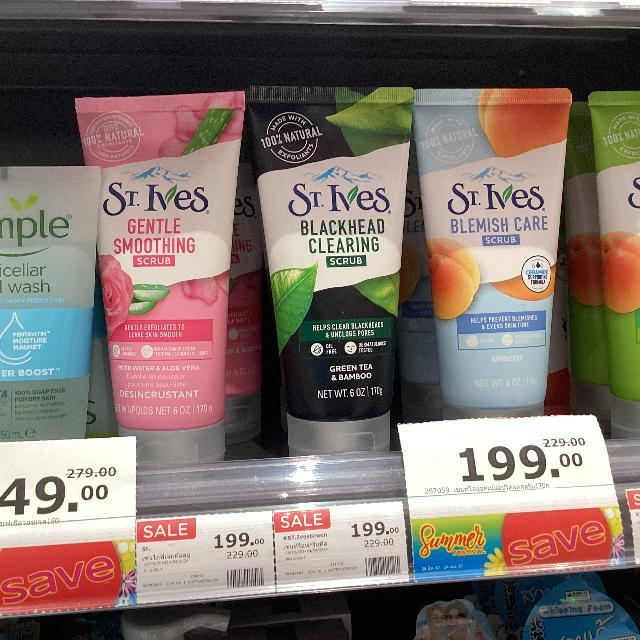Squeeze Tube: (0, 44, 640, 492), (70, 94, 249, 471), (245, 84, 411, 455), (414, 90, 567, 439), (1, 162, 121, 458)
